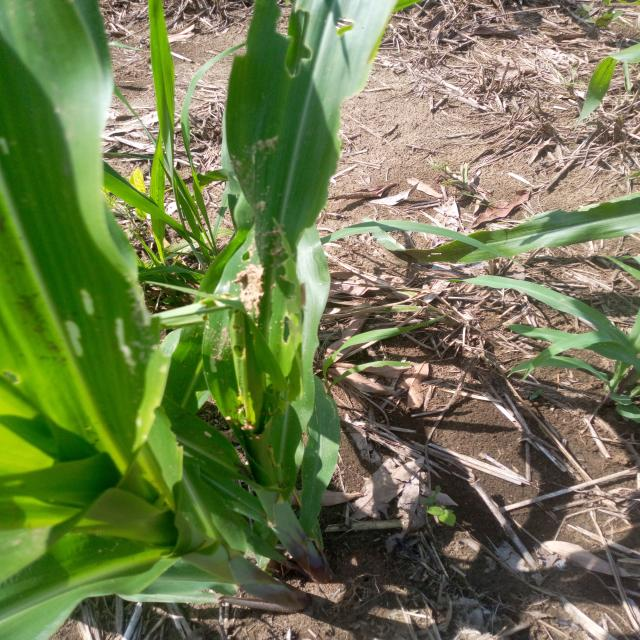fall-armyworm-frass: (210, 128, 304, 212), (6, 264, 76, 359), (225, 228, 290, 311), (122, 266, 168, 342), (210, 390, 284, 434), (192, 317, 240, 358)
fall-armyworm-larval-damage: (238, 0, 366, 92), (222, 477, 306, 511), (271, 302, 319, 358), (219, 184, 245, 245), (136, 391, 166, 440), (238, 242, 262, 277)
